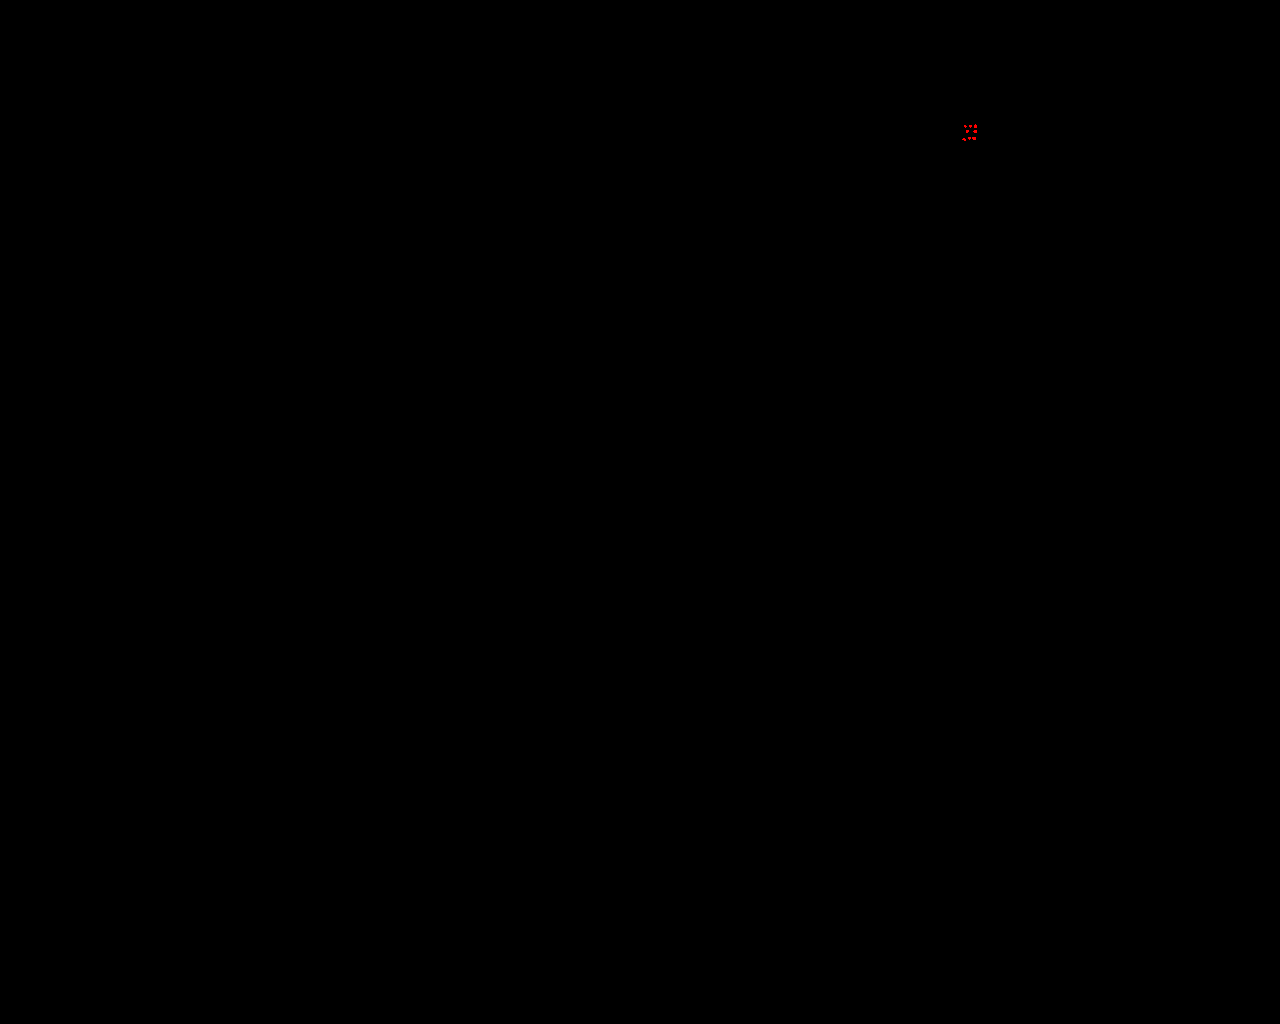Target: (973, 130, 977, 133), (972, 137, 976, 140), (974, 124, 977, 127), (965, 130, 969, 133), (968, 137, 971, 140), (962, 138, 965, 141), (969, 125, 972, 127), (964, 125, 967, 127)
